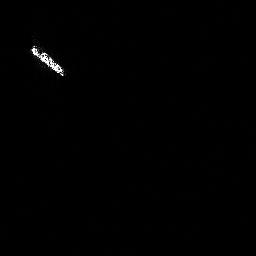ship: (27, 41, 68, 79)
